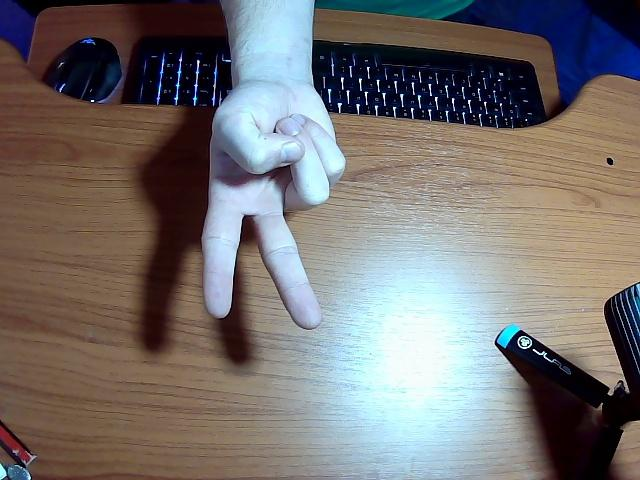scissors: (202, 0, 345, 328)
